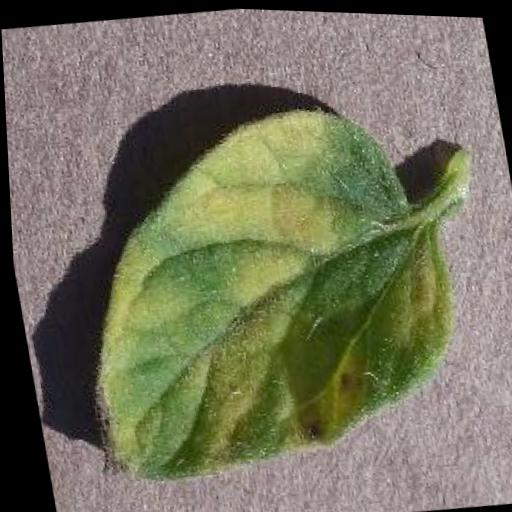Leaf Mold: (48, 88, 474, 494)
